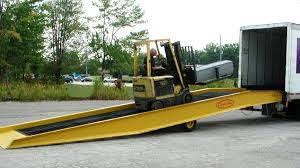Pallet Jack: (132, 39, 231, 112)
Yard Ramp: (1, 86, 285, 150)
